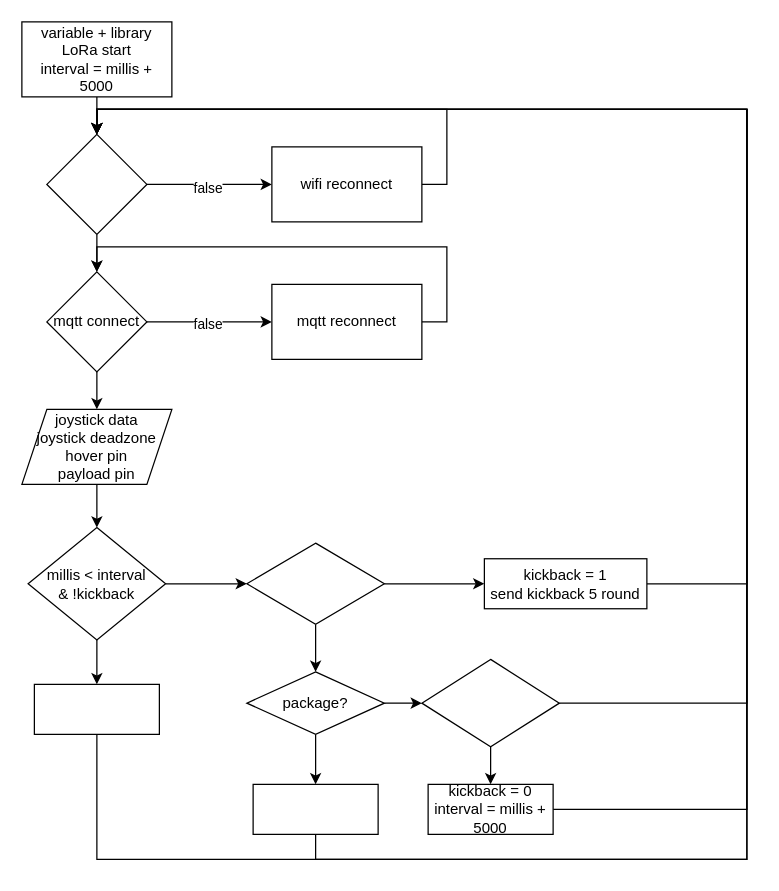
Image size: 779x891. Some labels were removed from this diagram. Each missing label, with the centre of its shape:
"kickback" belongs at pixel 315 583.
"millis < interval" belongs at pixel 490 702.
"recieve data mqtt write" belongs at pixel 315 808.
"send data" belongs at pixel 96 708.
"wifi connect?" belongs at pixel 96 183.
